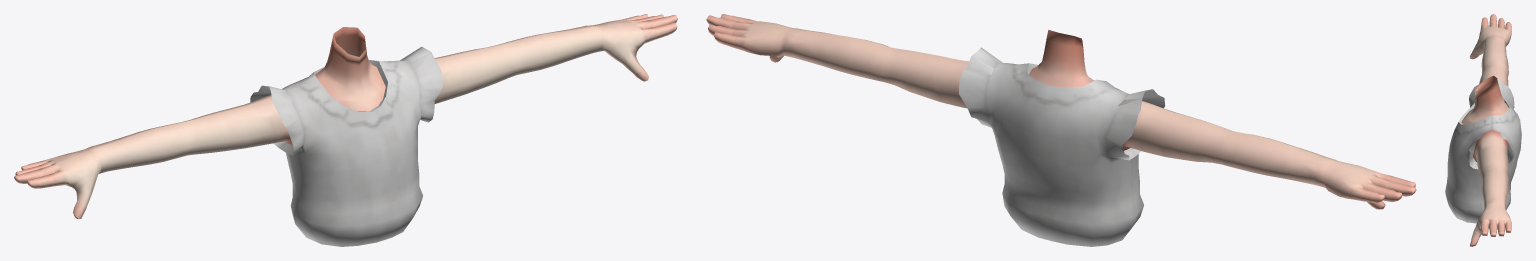
File: tr0730_00_upb01.gltf
3 views of the same model, side by side, from view 1: azimuth 30°, elevation 25°; view 2: azimuth 150°, elevation 25°; view 3: azimuth 270°, elevation 25° (orthographic). The views are drawn at different scales.
Parts seen in each view (by area): view 1: upb01_upperskin_mesh_shape:upperbody01_skin, upb01_upperbody_mesh_shape:upperbody01; view 2: upb01_upperbody_mesh_shape:upperbody01, upb01_upperskin_mesh_shape:upperbody01_skin; view 3: upb01_upperskin_mesh_shape:upperbody01_skin, upb01_upperbody_mesh_shape:upperbody01.
Part boxes in pixels (<box>): upb01_upperskin_mesh_shape:upperbody01_skin: <box>14,14,677,218</box>; upb01_upperbody_mesh_shape:upperbody01: <box>250,46,442,246</box>; upb01_upperbody_mesh_shape:upperbody01: <box>959,47,1165,246</box>; upb01_upperskin_mesh_shape:upperbody01_skin: <box>706,14,1416,209</box>; upb01_upperskin_mesh_shape:upperbody01_skin: <box>1461,14,1511,246</box>; upb01_upperbody_mesh_shape:upperbody01: <box>1445,78,1521,223</box>.
Size of what is drawn, in the model's own units: 1.63 by 0.4508 by 0.2411.
2 materials, 2 textured.
